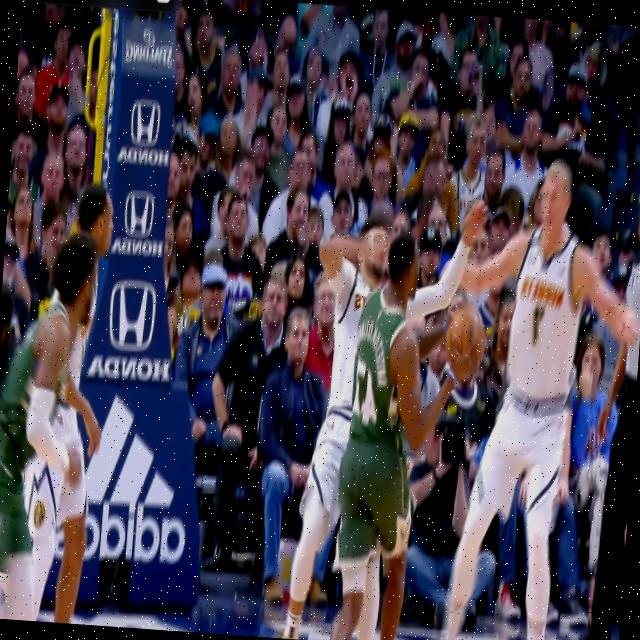Foul: (289, 185, 470, 640)
